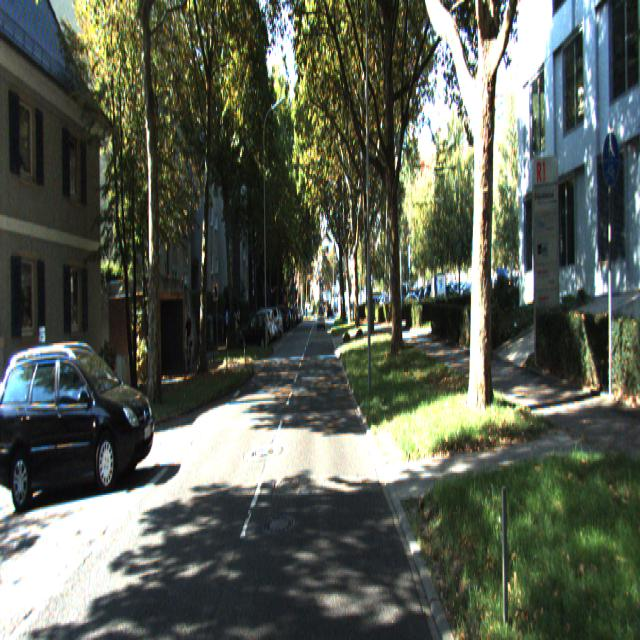Car: (0, 336, 157, 505), (239, 316, 268, 355)
